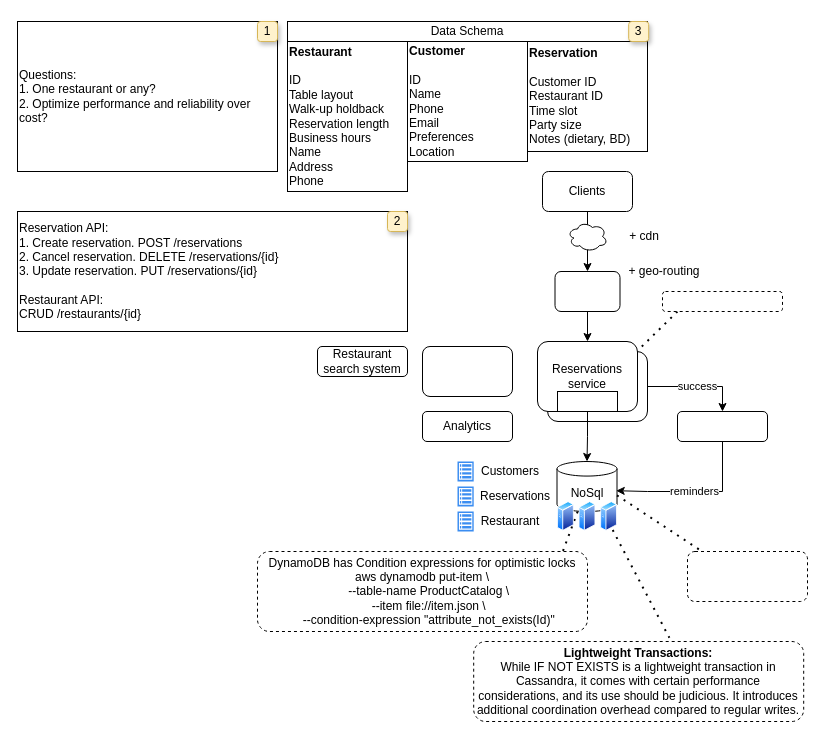
This 825x739 diagram has some shape labels left out. The shapes that lost their labels are listed below. From the top down, each one's centre as x and y in pixels, then its label:
At [587,291]: "Load Balancer".
At [722,301]: "Join on client side".
At [467,371]: "User Management System".
At [587,401]: "cache".
At [722,426]: "Notifications sms/email".
At [747,576]: "RDBMS might be still good depending on traffic volume".
